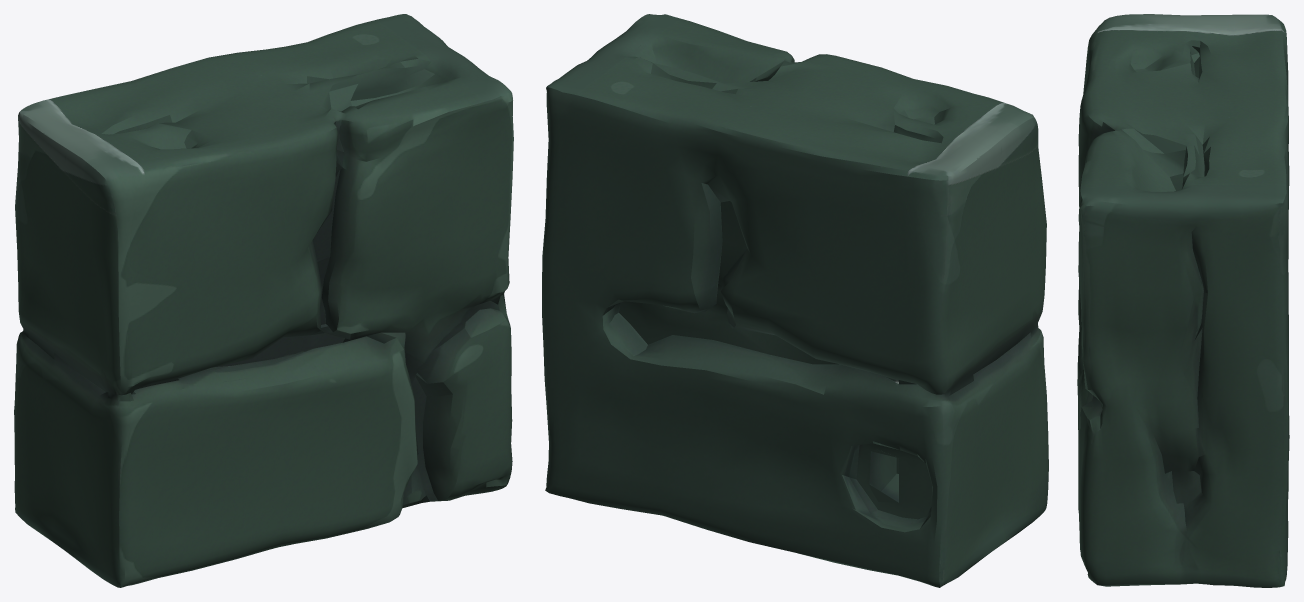
The model's file is brick_std_dungeon.glb.
3 renders of one model, left to right at view 1: azimuth 30°, elevation 25°; view 2: azimuth 150°, elevation 25°; view 3: azimuth 270°, elevation 25°, orthographic. The views are drawn at different scales.
Visible parts, largest first — view 1: Mesh_0; view 2: Mesh_0; view 3: Mesh_0.
Part boxes in pixels (<box>): Mesh_0: <box>14,14,513,587</box>; Mesh_0: <box>542,14,1048,587</box>; Mesh_0: <box>1077,14,1289,587</box>.
Size of the model in its own units: 1.9 by 1.84 by 0.904.
Materials: 1 (1 with a texture image).
